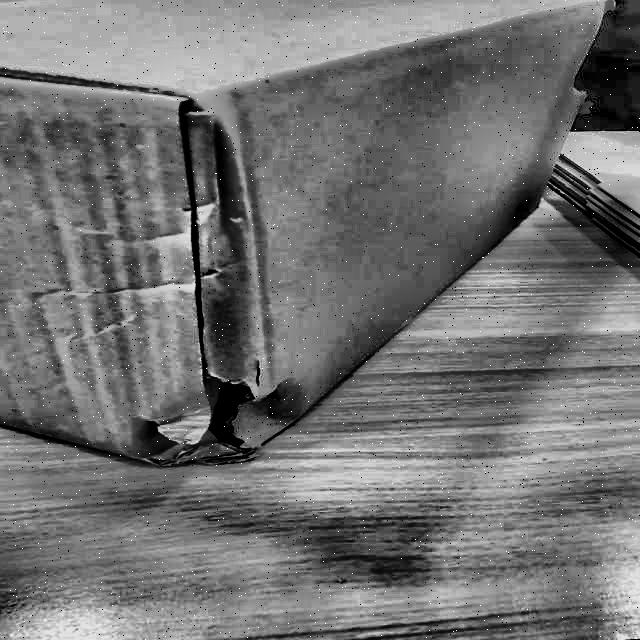box: (1, 0, 620, 488)
hole: (143, 367, 293, 467)
